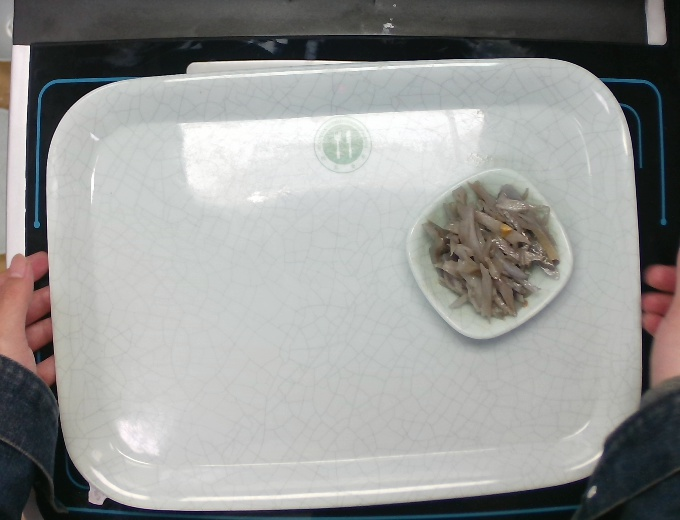JYsf-Si_Fang_Die: (403, 164, 575, 341)
